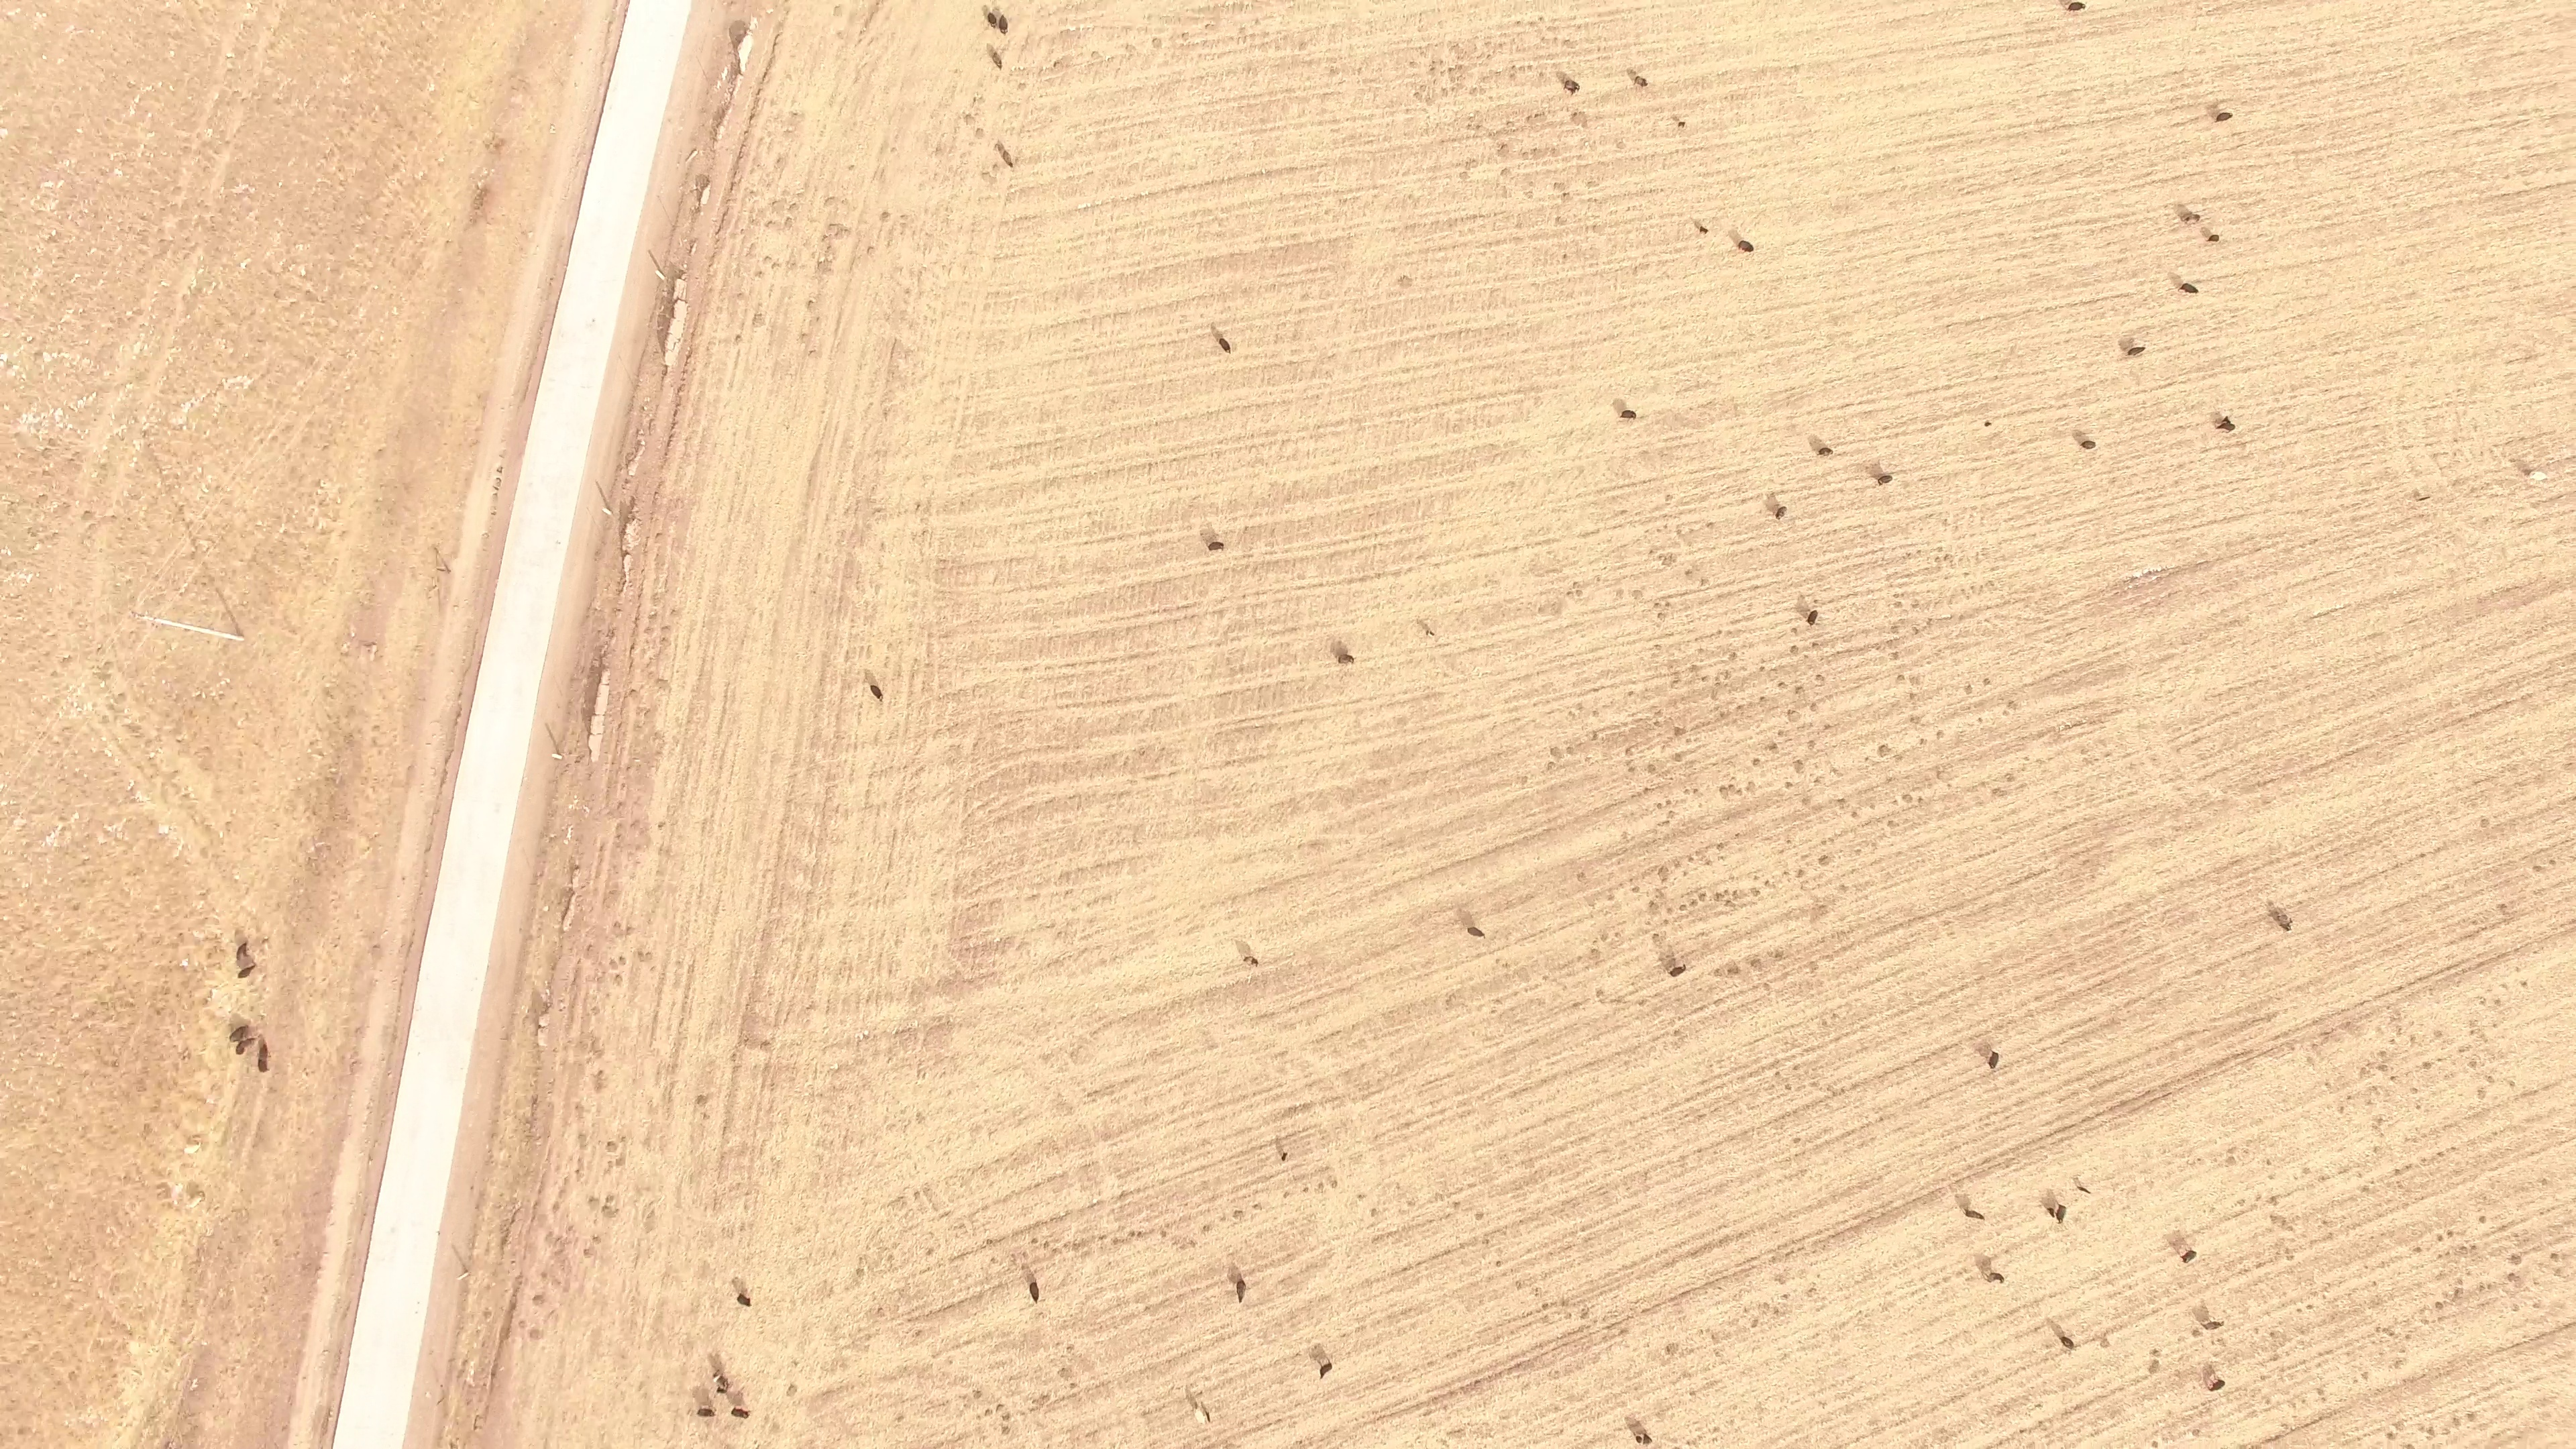sheep: (1978, 1267, 2008, 1286), (255, 1044, 275, 1074), (1023, 1279, 1044, 1305), (2198, 1313, 2225, 1333), (710, 1369, 730, 1396), (2173, 279, 2201, 297), (2055, 1330, 2078, 1353), (1983, 1046, 2002, 1072), (225, 1024, 250, 1044), (1666, 961, 1689, 980), (1961, 1205, 1988, 1223), (1561, 76, 1582, 97), (2212, 417, 2239, 434), (1190, 1406, 1211, 1428), (733, 1291, 754, 1310), (2206, 1376, 2229, 1395), (2053, 1201, 2069, 1226), (2522, 466, 2548, 483), (1232, 1279, 1250, 1303), (1316, 1360, 1336, 1379), (2179, 1247, 2200, 1267), (1803, 606, 1821, 629), (1735, 237, 1757, 256), (1465, 924, 1487, 940), (1874, 471, 1896, 486), (1813, 445, 1836, 460), (694, 1406, 718, 1421), (2123, 344, 2148, 359), (1632, 1429, 1652, 1448), (866, 684, 885, 702), (1771, 504, 1790, 522), (1631, 72, 1650, 90), (1335, 651, 1357, 667), (1205, 538, 1227, 553), (999, 149, 1016, 170), (989, 50, 1005, 71), (729, 1405, 749, 1421), (1617, 407, 1640, 422), (2065, 1, 2088, 14), (1216, 337, 1234, 354), (234, 941, 249, 961), (235, 964, 256, 980), (235, 1038, 254, 1055), (1241, 953, 1261, 967), (2076, 438, 2099, 453), (996, 13, 1011, 36), (2180, 212, 2203, 225), (2214, 111, 2235, 125), (1422, 625, 1438, 641), (2203, 233, 2222, 246), (2282, 917, 2296, 932), (987, 12, 1000, 30), (1278, 1149, 1290, 1164), (2046, 1205, 2057, 1220), (1982, 418, 1993, 430), (2076, 1183, 2089, 1195), (1697, 224, 1711, 236), (1675, 119, 1688, 129)
unknown: (558, 884, 576, 922), (470, 183, 494, 213), (694, 172, 713, 207), (590, 105, 607, 141), (535, 305, 559, 333), (343, 1318, 359, 1356), (402, 928, 419, 961), (529, 1005, 547, 1032), (2166, 1232, 2188, 1254), (2200, 1361, 2218, 1385), (209, 984, 231, 1005), (599, 74, 614, 105), (710, 105, 729, 129), (421, 830, 437, 856), (1504, 1359, 1526, 1377), (1307, 1346, 1330, 1364), (215, 999, 234, 1018), (338, 1302, 354, 1324), (1844, 1220, 1866, 1235), (419, 919, 432, 945), (357, 1206, 371, 1229), (388, 1023, 401, 1046), (437, 765, 451, 788), (2146, 1357, 2162, 1376), (537, 823, 553, 842), (617, 547, 633, 566), (662, 349, 677, 368), (488, 1360, 502, 1382), (543, 281, 557, 303), (363, 1226, 376, 1249), (599, 1202, 616, 1219), (187, 1184, 203, 1201), (694, 1092, 710, 1107), (1725, 963, 1743, 978), (1671, 724, 1689, 739), (491, 137, 508, 154), (182, 1142, 201, 1157), (537, 999, 552, 1018), (414, 943, 427, 961), (1187, 1393, 1201, 1411), (459, 1260, 472, 1276), (612, 1155, 628, 1169), (2214, 1055, 2231, 1069), (1747, 956, 1763, 970), (592, 545, 604, 560), (528, 387, 541, 402), (2310, 1413, 2328, 1426), (1676, 1287, 1694, 1300), (365, 1146, 377, 1164), (425, 896, 437, 914), (551, 739, 564, 758), (515, 445, 527, 462), (586, 142, 598, 160), (368, 1206, 379, 1227), (420, 862, 431, 881), (1000, 1411, 1014, 1424), (972, 1387, 985, 1401), (2561, 1319, 2576, 1332), (2432, 1299, 2447, 1313), (2117, 1097, 2131, 1110), (1766, 740, 1780, 753), (1444, 1388, 1459, 1399), (531, 1292, 546, 1304), (2451, 1286, 2462, 1302), (497, 1233, 510, 1249), (604, 1138, 619, 1150), (1273, 1138, 1285, 1153), (496, 545, 507, 561), (563, 238, 576, 255), (1126, 1229, 1145, 1240), (2465, 1411, 2477, 1424), (127, 1341, 142, 1354), (2505, 1270, 2518, 1284), (853, 1265, 867, 1278), (2547, 1250, 2561, 1262), (1073, 1238, 1089, 1250), (1368, 1205, 1379, 1220), (370, 1195, 382, 1210), (154, 1180, 168, 1192), (2420, 1059, 2434, 1072), (2473, 959, 2488, 971), (2494, 950, 2509, 962), (1547, 745, 1560, 758), (99, 671, 113, 682), (1890, 649, 1901, 663), (233, 625, 246, 639), (878, 209, 891, 221), (383, 1058, 394, 1074), (229, 987, 239, 1004), (2530, 863, 2545, 875), (467, 650, 483, 661), (544, 326, 555, 341), (549, 261, 560, 276), (2271, 1432, 2284, 1443), (2425, 1426, 2437, 1438), (2072, 1401, 2085, 1413), (1539, 1300, 1552, 1312), (1558, 1297, 1572, 1309), (2267, 1193, 2279, 1205), (172, 1183, 184, 1195), (2224, 1153, 2237, 1167), (380, 1106, 392, 1118), (1299, 1100, 1311, 1112), (529, 1095, 541, 1108), (153, 1007, 164, 1018), (566, 863, 578, 876), (1885, 818, 1896, 829), (1716, 783, 1728, 795), (1646, 763, 1658, 775), (1876, 743, 1887, 756), (1788, 643, 1799, 655), (602, 499, 613, 512), (632, 437, 644, 449), (871, 3, 882, 16), (327, 1431, 338, 1446), (1038, 1392, 1053, 1403), (341, 1356, 352, 1371), (1750, 1316, 1761, 1330), (2508, 1252, 2524, 1263), (373, 1181, 384, 1197), (523, 1117, 536, 1128), (2375, 1061, 2388, 1073), (2495, 901, 2508, 912), (1793, 757, 1805, 772), (1792, 684, 1803, 696), (220, 631, 234, 641), (199, 626, 213, 637), (25, 411, 36, 424), (608, 49, 620, 64), (1590, 728, 1600, 743), (2384, 1430, 2396, 1442), (15, 1426, 27, 1438), (999, 1424, 1010, 1437), (2450, 1415, 2462, 1426), (1413, 1401, 1424, 1413), (994, 1401, 1006, 1413), (487, 1381, 497, 1393), (1067, 1380, 1079, 1391), (1471, 1377, 1485, 1387), (1524, 1360, 1535, 1371), (2267, 1329, 2278, 1340), (529, 1327, 541, 1337), (2190, 1326, 2202, 1340), (539, 1270, 549, 1281), (2553, 1266, 2563, 1277), (299, 1261, 311, 1273), (925, 1245, 936, 1257), (2412, 1244, 2424, 1255), (1028, 1235, 1040, 1246), (2446, 1228, 2457, 1238), (1159, 1228, 1169, 1240), (2476, 1213, 2488, 1226), (1473, 1211, 1486, 1221), (1878, 1210, 1889, 1220), (1451, 1199, 1462, 1210), (586, 1195, 598, 1205), (2392, 1166, 2403, 1178), (2224, 1146, 2237, 1157), (1790, 1135, 1803, 1146), (2059, 1123, 2072, 1134), (1401, 1120, 1413, 1130), (2083, 1114, 2094, 1124), (2106, 1103, 2118, 1115), (1084, 1089, 1096, 1100), (380, 1088, 391, 1101), (2142, 1087, 2154, 1098), (595, 1080, 605, 1091), (226, 1061, 237, 1071), (2467, 1059, 2479, 1070), (2377, 1048, 2388, 1059), (759, 1038, 771, 1049), (536, 1036, 547, 1049), (1570, 1000, 1581, 1010), (2491, 997, 2503, 1007), (400, 963, 411, 975), (1772, 949, 1786, 961), (635, 949, 646, 960), (70, 903, 82, 914), (1713, 890, 1723, 902), (1729, 888, 1740, 898), (417, 877, 429, 890), (1795, 867, 1807, 879), (2546, 857, 2559, 867), (1816, 855, 1828, 865), (539, 847, 550, 857), (313, 845, 325, 855), (1714, 841, 1727, 851), (160, 824, 171, 835), (430, 807, 442, 818), (1672, 751, 1684, 761), (1807, 737, 1817, 750), (1821, 722, 1832, 733), (1717, 710, 1729, 721), (1907, 690, 1917, 702), (567, 675, 577, 686), (469, 641, 479, 653), (364, 639, 378, 650), (442, 565, 453, 576), (53, 407, 66, 418), (537, 360, 547, 373), (1, 351, 10, 363), (577, 186, 587, 199), (42, 179, 55, 189), (963, 111, 974, 121), (619, 5, 631, 15), (2403, 1441, 2417, 1449), (162, 1439, 172, 1449), (2149, 1438, 2161, 1449), (2263, 1436, 2273, 1446), (1623, 1414, 1633, 1424), (894, 1413, 905, 1425), (334, 1401, 344, 1411), (1457, 1383, 1468, 1393), (338, 1375, 349, 1385), (1491, 1370, 1501, 1381), (2149, 1347, 2160, 1357), (1664, 1345, 1674, 1355), (2403, 1332, 2413, 1342), (913, 1329, 923, 1339), (2546, 1328, 2557, 1338), (1579, 1309, 1590, 1320), (1771, 1307, 1781, 1318), (1639, 1306, 1650, 1316), (975, 1291, 985, 1301), (2484, 1281, 2494, 1292), (354, 1267, 364, 1278), (1737, 1266, 1748, 1276), (312, 1263, 323, 1274), (1687, 1249, 1699, 1259), (2282, 1247, 2292, 1257), (2468, 1242, 2479, 1253), (1042, 1238, 1052, 1248), (1110, 1237, 1121, 1248), (986, 1237, 996, 1247), (590, 1234, 602, 1244), (2434, 1233, 2445, 1244), (1099, 1232, 1110, 1242), (2278, 1217, 2290, 1228), (508, 1215, 518, 1226), (473, 1200, 483, 1211), (911, 1189, 922, 1200), (2538, 1177, 2550, 1187), (2375, 1116, 2385, 1126), (1281, 1108, 1291, 1119), (2138, 1091, 2148, 1102), (392, 1087, 402, 1097), (2161, 1080, 2171, 1090), (1773, 1069, 1783, 1079), (595, 1067, 606, 1078), (2357, 1066, 2367, 1076), (1896, 1063, 1907, 1073), (1791, 1063, 1801, 1073), (2229, 1051, 2241, 1062), (2247, 1046, 2257, 1056), (207, 1036, 217, 1046), (1671, 1027, 1683, 1038), (2343, 1018, 2353, 1030), (650, 1014, 660, 1025), (392, 1012, 402, 1023), (1761, 981, 1772, 991), (209, 978, 220, 988), (2444, 963, 2454, 973), (548, 963, 559, 973), (179, 958, 189, 968), (525, 932, 535, 943), (1650, 930, 1662, 941), (232, 928, 242, 938), (623, 924, 633, 934), (2265, 898, 2275, 909), (1723, 897, 1734, 907), (1688, 896, 1699, 908), (415, 894, 425, 904), (1839, 883, 1849, 894), (531, 872, 541, 883), (2080, 858, 2090, 868), (1307, 841, 1318, 851), (43, 834, 53, 845), (437, 833, 447, 844), (1849, 809, 1860, 820), (444, 802, 455, 812), (1663, 798, 1674, 808), (1799, 796, 1809, 806), (1641, 786, 1651, 796), (2255, 780, 2265, 790), (1978, 779, 1988, 789), (1784, 779, 1794, 790), (2004, 774, 2015, 785), (1626, 764, 1637, 775), (2472, 708, 2482, 718), (107, 702, 117, 712), (454, 690, 465, 701), (323, 688, 333, 698), (1964, 683, 1974, 694), (1689, 662, 1700, 673), (1885, 639, 1895, 649), (211, 629, 221, 639), (1789, 625, 1800, 635), (1923, 618, 1933, 628), (580, 613, 590, 624), (1956, 612, 1967, 623), (1535, 604, 1546, 615), (1651, 600, 1662, 610), (1665, 592, 1676, 602), (2127, 574, 2138, 586), (2133, 569, 2143, 580), (2145, 568, 2155, 578), (622, 562, 632, 574), (498, 537, 508, 547), (2416, 511, 2426, 521), (2411, 488, 2422, 499), (2514, 462, 2524, 472), (613, 462, 625, 472), (667, 431, 678, 441), (621, 427, 631, 437), (673, 400, 683, 410), (630, 382, 641, 392), (661, 366, 671, 377), (540, 346, 551, 357), (542, 339, 552, 350), (547, 274, 558, 284), (237, 260, 248, 270), (814, 258, 824, 268), (557, 258, 568, 268), (470, 215, 480, 227), (1552, 215, 1562, 225), (572, 211, 582, 221), (692, 205, 703, 216), (112, 167, 122, 177), (730, 162, 742, 173), (710, 135, 720, 145), (1, 126, 10, 136), (1670, 113, 1680, 123), (1327, 66, 1337, 76), (1454, 62, 1466, 73), (606, 17, 616, 28), (330, 1421, 340, 1432), (1617, 1326, 1630, 1336), (2359, 1185, 2372, 1195), (1443, 996, 1453, 1008), (413, 965, 423, 976), (85, 700, 95, 710), (2190, 1427, 2200, 1437), (1430, 1393, 1441, 1403), (1059, 1365, 1069, 1375), (2099, 1335, 2110, 1345), (1667, 1295, 1677, 1305), (511, 1286, 521, 1296), (460, 1286, 470, 1296), (1769, 1254, 1779, 1264), (350, 1250, 360, 1260), (581, 1248, 591, 1258), (1457, 1242, 1467, 1252), (2271, 1213, 2281, 1223), (1231, 1211, 1241, 1221), (362, 1199, 372, 1210), (606, 1193, 616, 1203), (476, 1190, 486, 1200), (1118, 1189, 1128, 1200), (1301, 1185, 1311, 1195), (1330, 1177, 1340, 1187), (2340, 1166, 2350, 1176), (2435, 1149, 2446, 1159), (371, 1136, 381, 1146), (376, 1121, 386, 1133), (2344, 1093, 2355, 1103), (1849, 1082, 1859, 1092), (1782, 1082, 1792, 1092), (1929, 1049, 1939, 1059), (2318, 1029, 2328, 1039), (935, 1022, 945, 1032), (1819, 1018, 1830, 1028), (2264, 1014, 2274, 1024), (1593, 988, 1603, 999), (1977, 973, 1987, 983), (613, 971, 623, 981), (616, 955, 627, 965), (84, 948, 94, 958), (1588, 946, 1598, 956), (1647, 898, 1657, 908), (1656, 865, 1666, 875), (1685, 854, 1695, 864), (2417, 851, 2427, 861), (546, 834, 556, 844), (1543, 826, 1553, 836), (70, 812, 81, 822), (1654, 801, 1664, 811), (1837, 796, 1848, 806), (1900, 792, 1910, 802), (435, 788, 445, 798), (323, 774, 333, 784), (1933, 767, 1943, 778), (1775, 729, 1785, 739), (1976, 699, 1986, 709), (564, 698, 576, 708), (1981, 678, 1991, 688), (627, 643, 637, 653), (1912, 626, 1922, 637), (1909, 601, 1920, 611), (1662, 600, 1672, 610), (1894, 598, 1904, 608), (17, 571, 28, 581), (1682, 568, 1693, 578), (625, 527, 636, 537), (873, 505, 883, 515), (1767, 490, 1777, 500), (626, 468, 637, 478), (683, 352, 694, 362), (1560, 252, 1570, 262), (553, 245, 563, 256), (1498, 141, 1509, 151), (482, 141, 493, 151), (127, 107, 138, 117), (623, 1, 633, 8), (1018, 1263, 1028, 1273), (2151, 1095, 2161, 1105), (1599, 934, 1609, 944), (557, 926, 567, 936), (129, 724, 139, 735), (1728, 651, 1738, 661), (2503, 585, 2513, 595), (748, 21, 758, 31), (2252, 1442, 2263, 1449), (2569, 916, 2576, 926), (2056, 1, 2069, 5), (1203, 1444, 1214, 1449), (1917, 1444, 1927, 1449), (1984, 1443, 1994, 1449), (2571, 794, 2576, 804)
